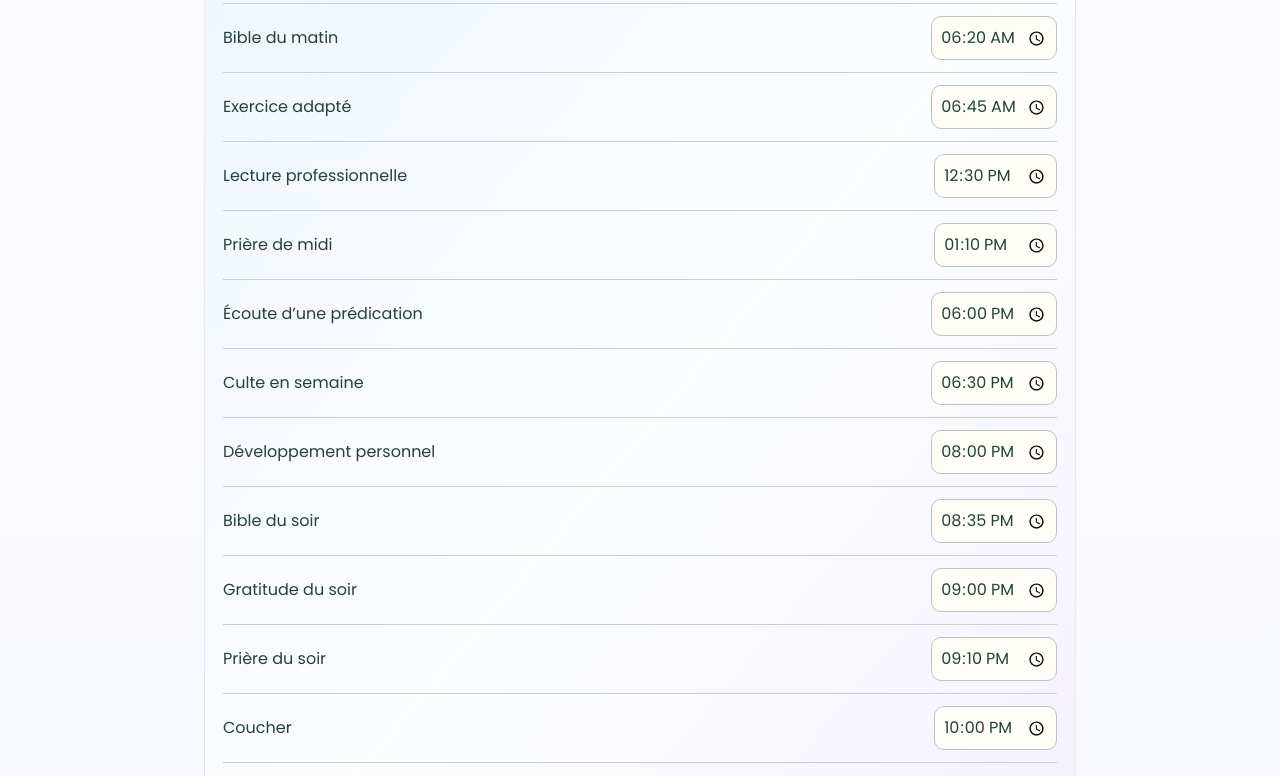
les trois cultes peuvent avoir des heures distinctes dans l’aperçu
Earlier steps of the test are not shown.
(page scrolled)
Replace the text in the time field labelled "Culte en semaine" with "17:45" at (994, 383), box [931,361,1057,405]
(page scrolled)
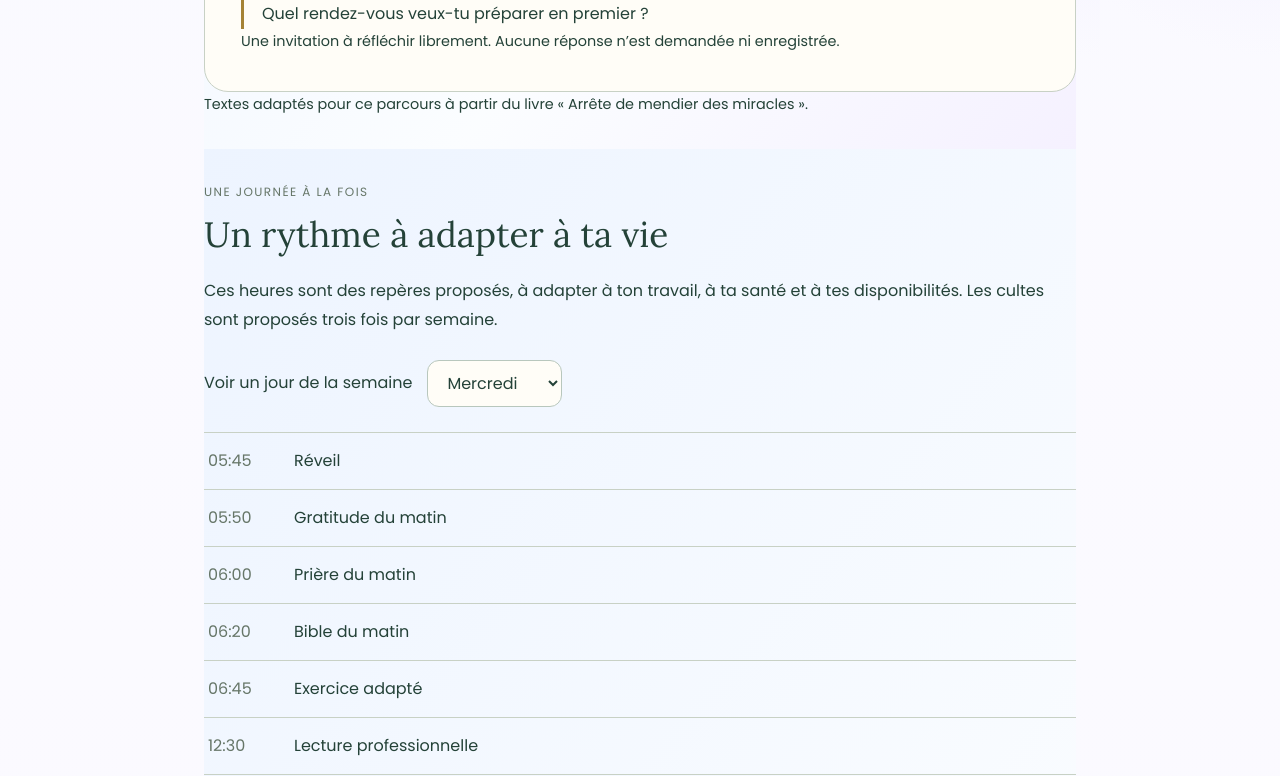
Select "Vendredi" in the dropdown labelled "Voir un jour de la semaine" at (495, 383), box [427,360,562,407]
(page scrolled)
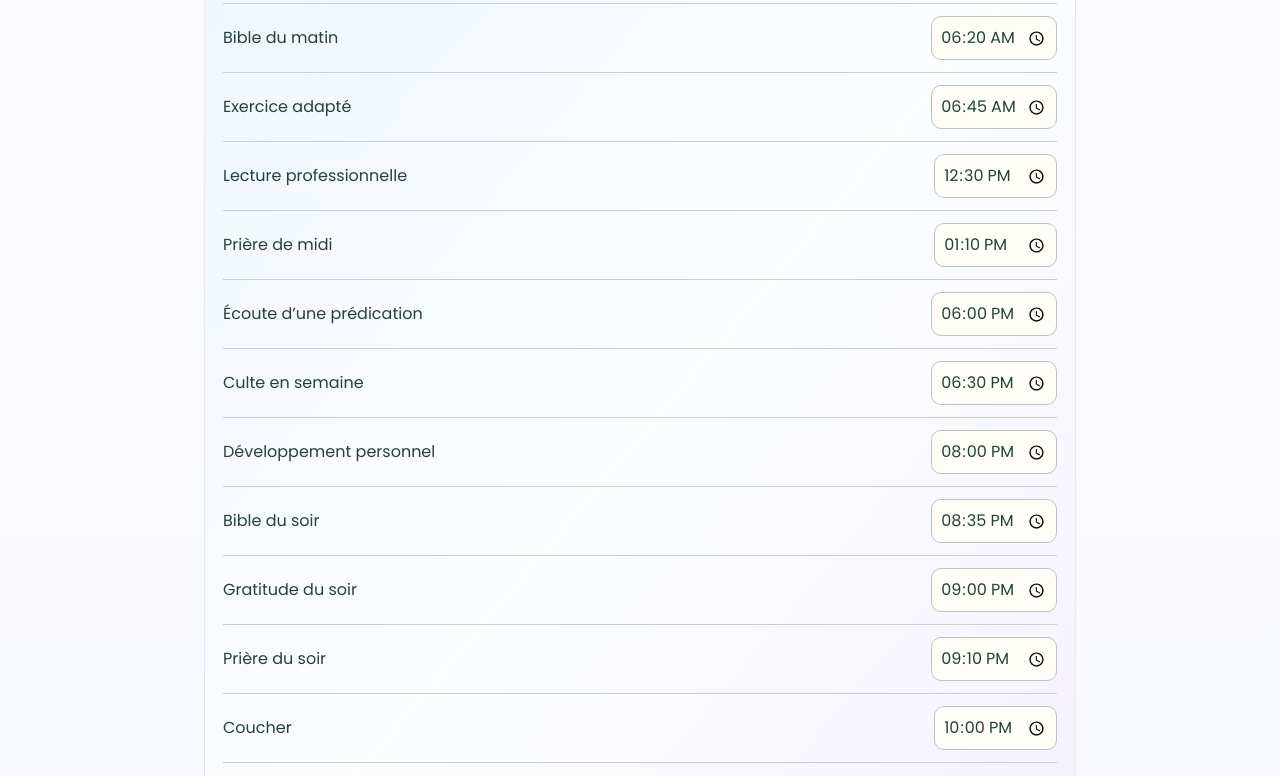
Now the time field labelled "Culte en semaine" holds "18:30"
Replace the text in the time field labelled "Culte en semaine" with "19:00" at (994, 383), box [931,361,1057,405]
(page scrolled)
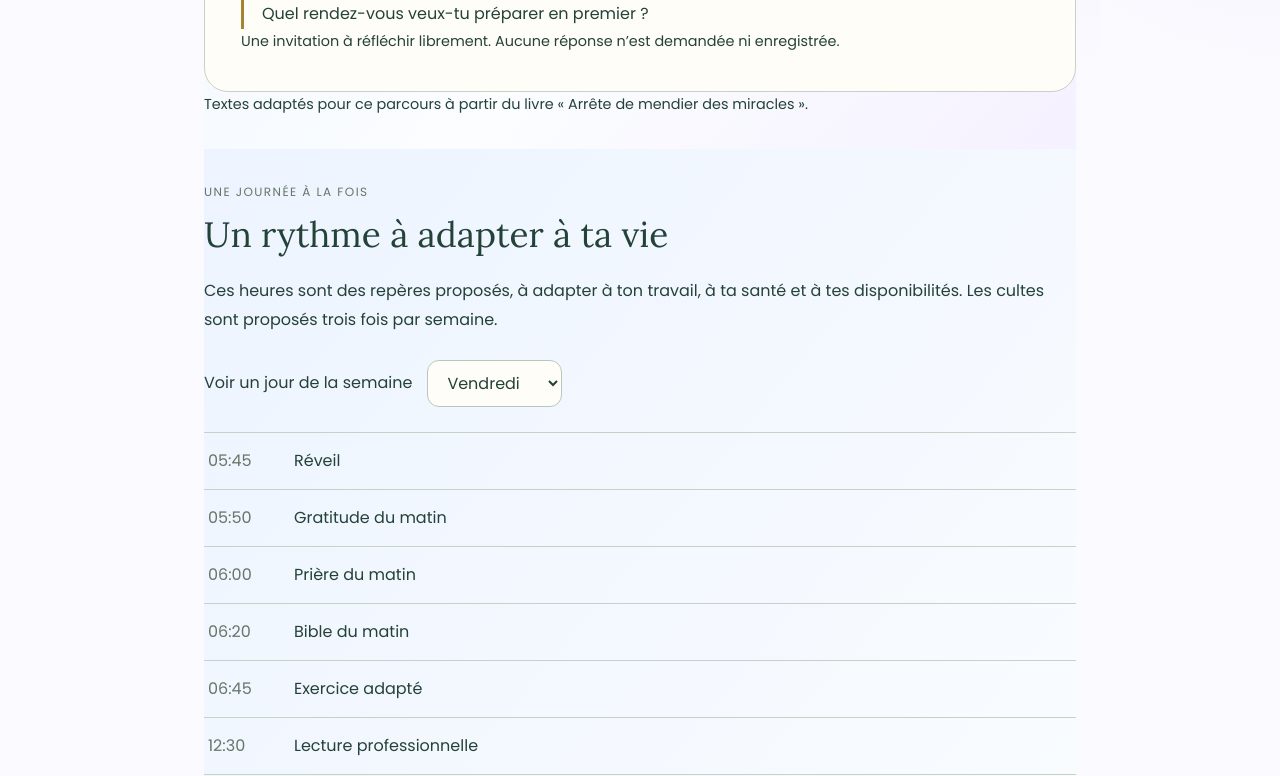
Select "Dimanche" in the dropdown labelled "Voir un jour de la semaine" at (495, 383), box [427,360,562,407]
(page scrolled)
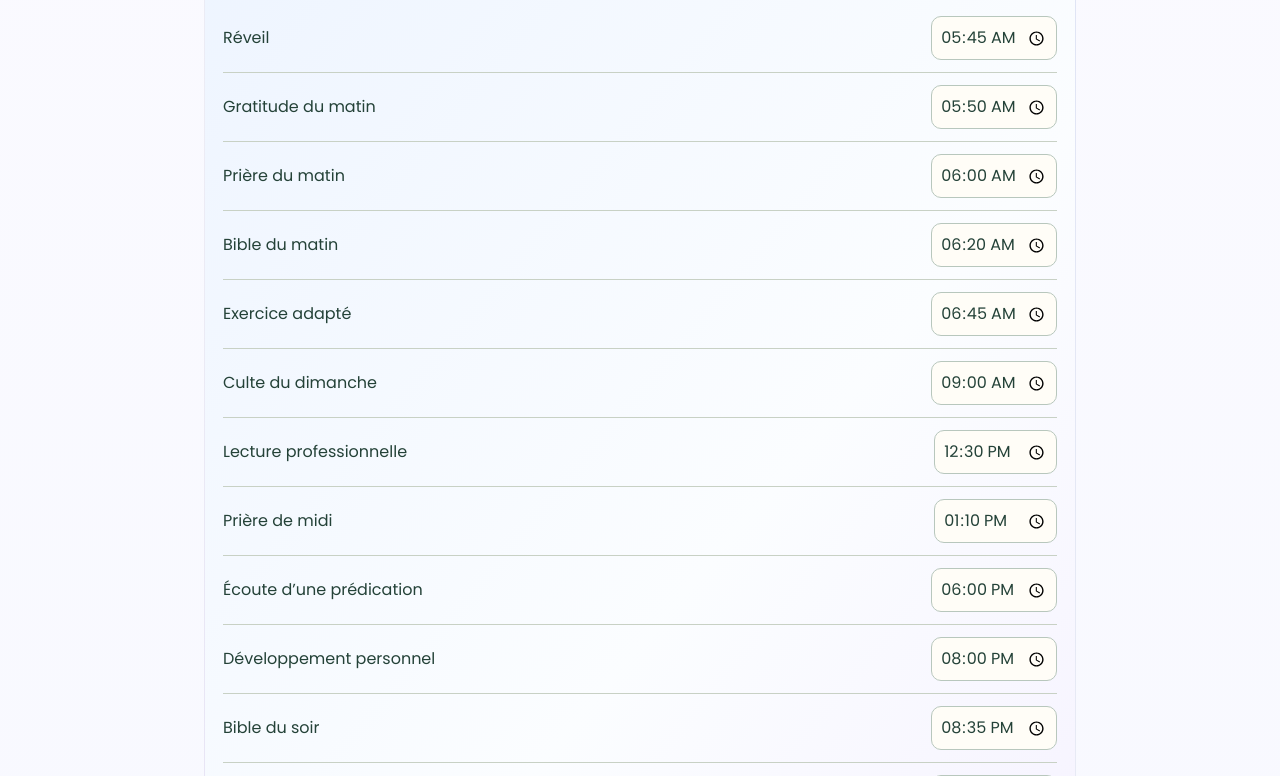
Replace the text in the time field labelled "Culte du dimanche" with "10:30" at (994, 383), box [931,361,1057,405]
(page scrolled)
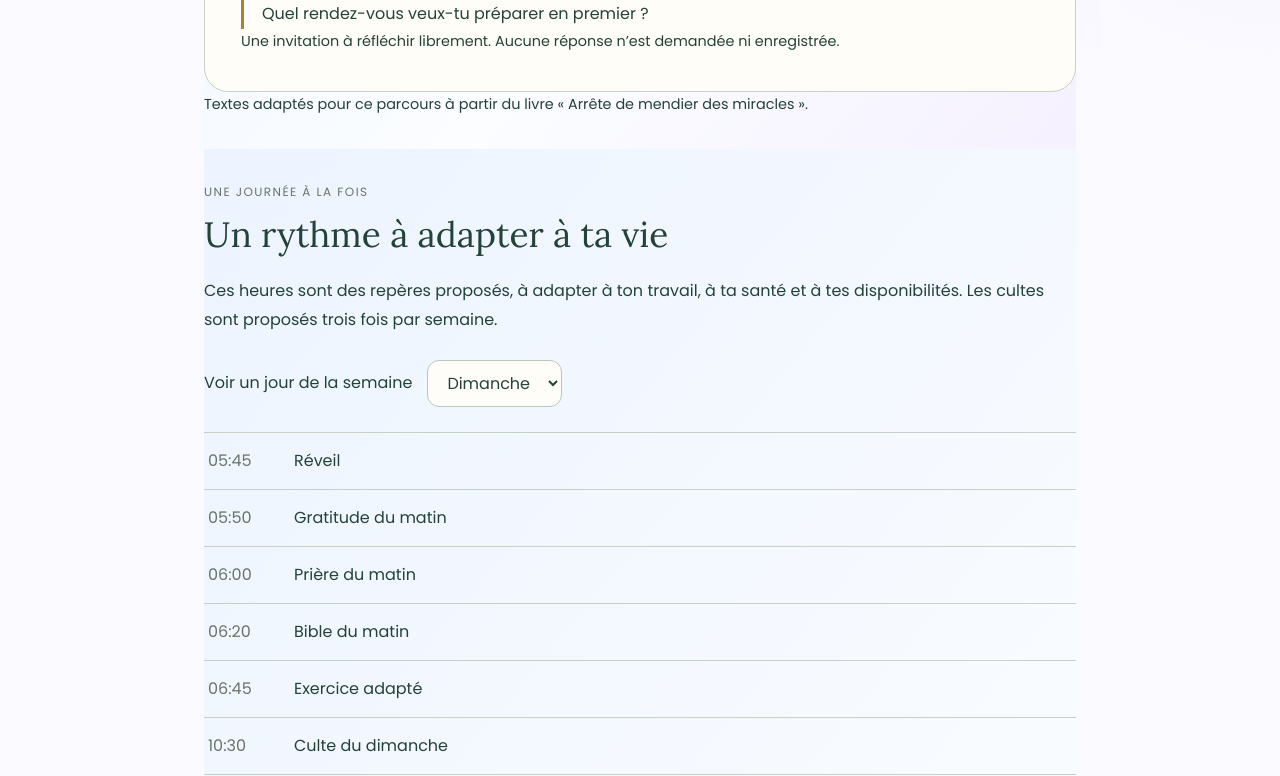
Select "Mercredi" in the dropdown labelled "Voir un jour de la semaine" at (495, 383), box [427,360,562,407]
(page scrolled)
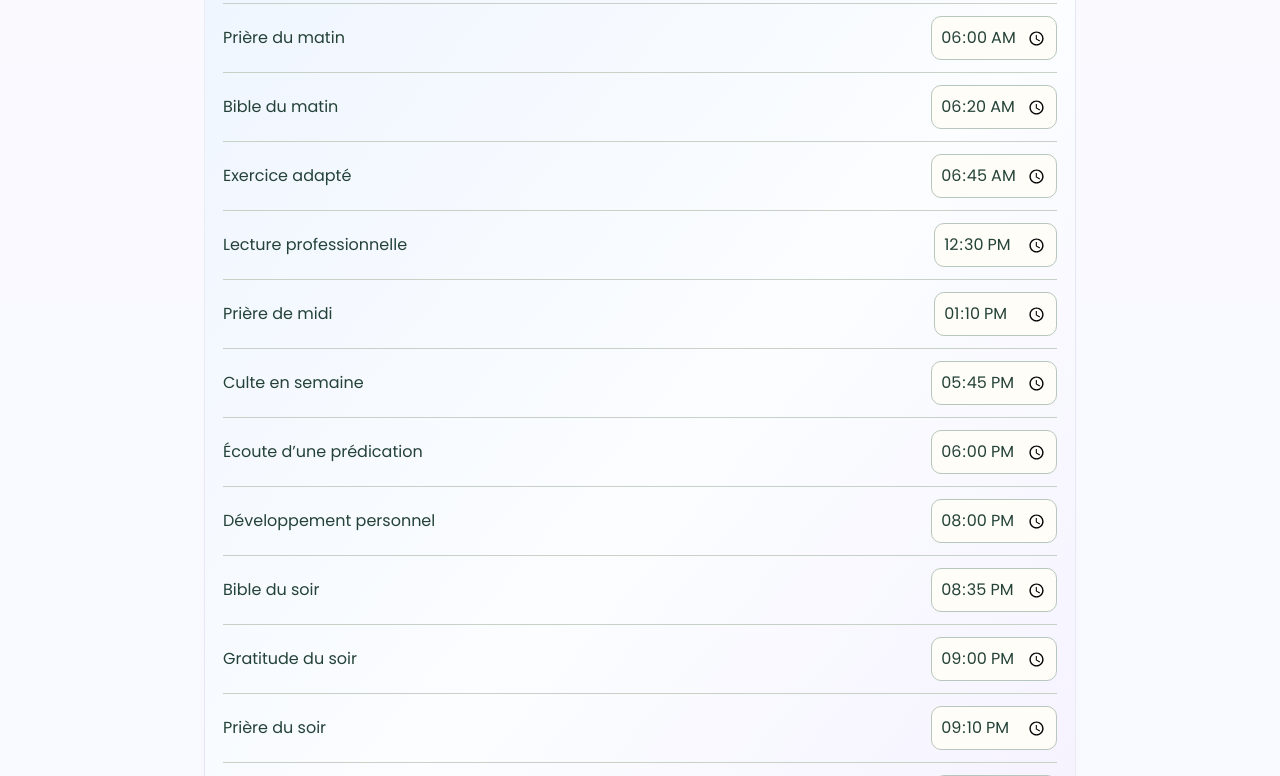
Now the time field labelled "Culte en semaine" holds "17:45", box [931,361,1057,405]
